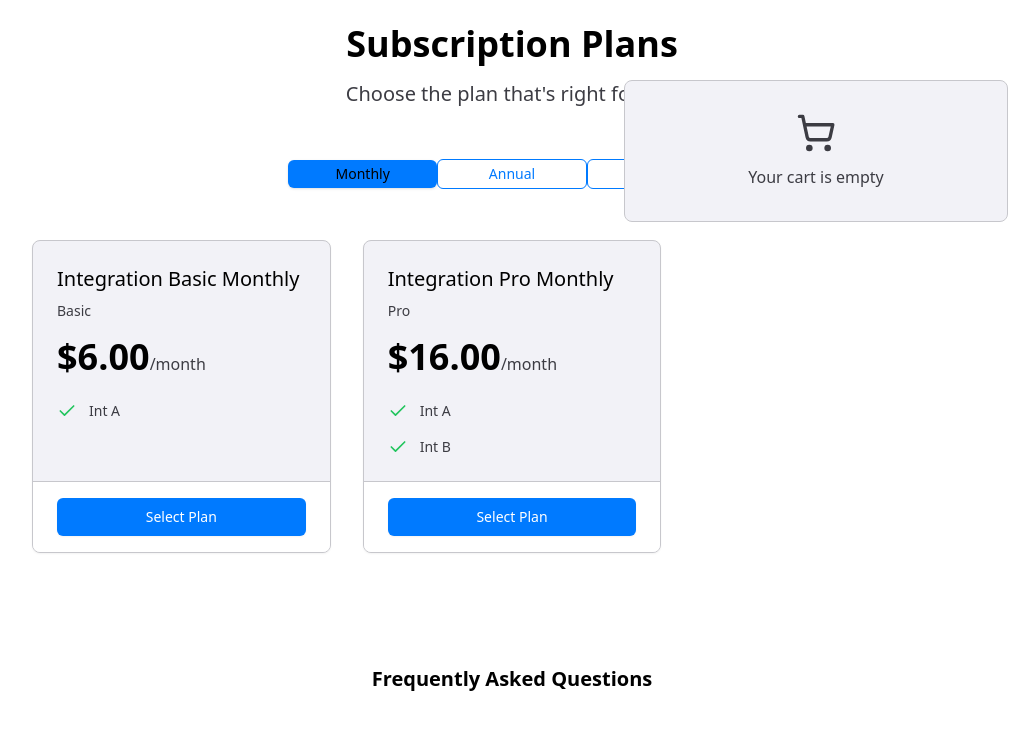
Test case: SubscriptionPage Integration Tests › should add subscription plan to cart when Select Plan is clicked
This screenshot has width=1024, height=752.
Expected: the heading "Integration Pro Monthly" is shown, [388, 265, 636, 293]
Click the button "Select Plan" below "Int B" at (512, 517), box [388, 498, 636, 536]
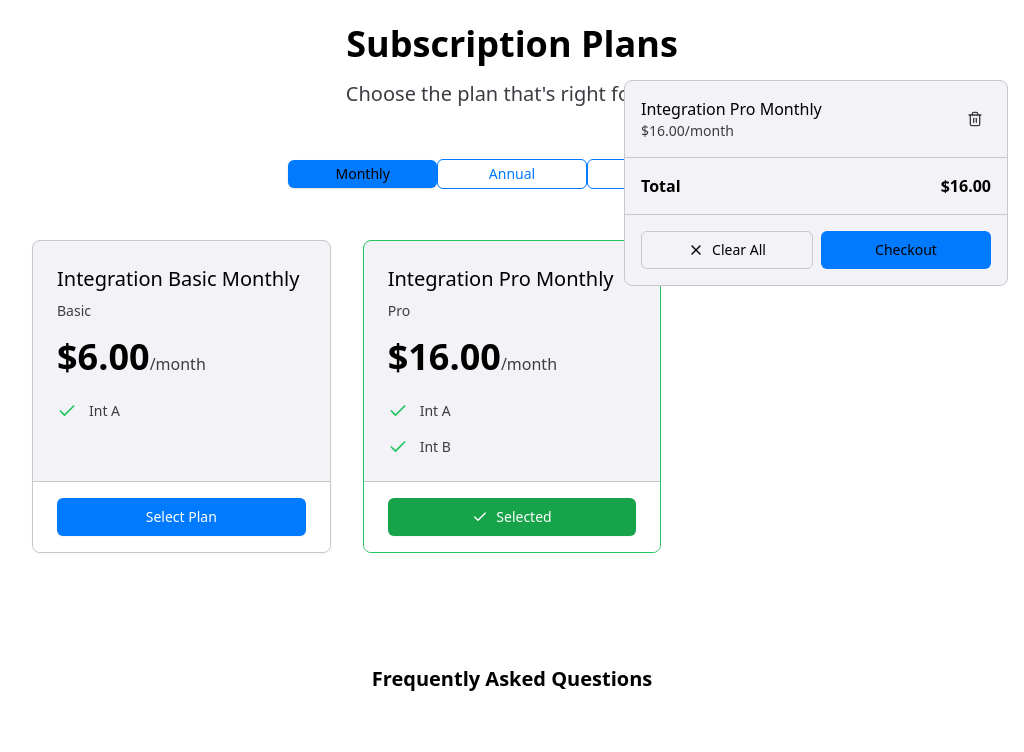
Result: the button "Selected" is shown at [388, 498, 636, 536]
Result: the element with test id "cart-summary-subscription-row" is shown at [641, 98, 991, 140]
